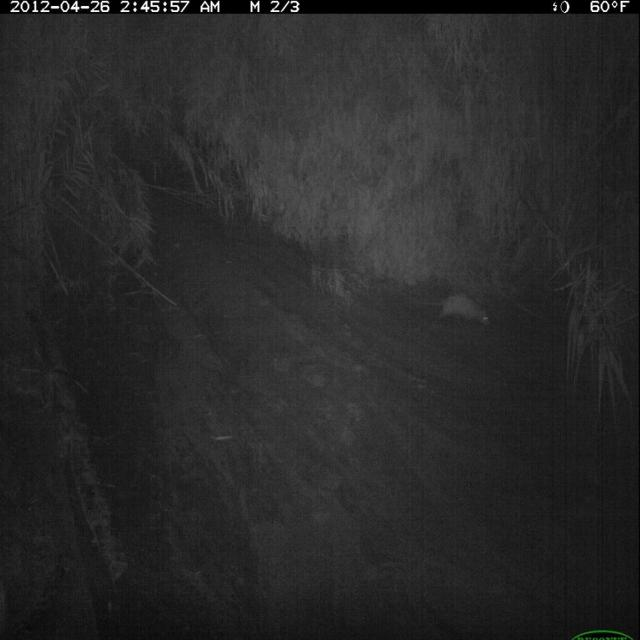opossum: (409, 288, 495, 333)
